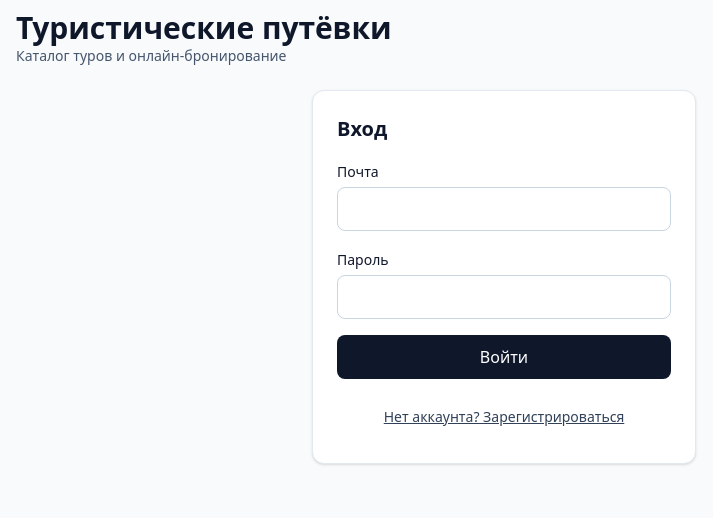
App: авторизация › неверный пароль: показывает понятную ошибку
Type "rem@example.com" into the field labelled "Почта" at (504, 209), box [337,187,671,231]
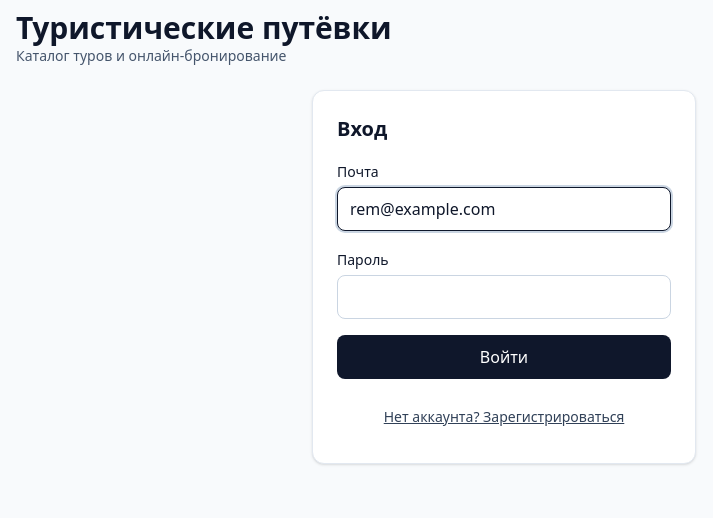
Type "wrong-password" into the password field labelled "Пароль" at (504, 297), box [337,275,671,319]
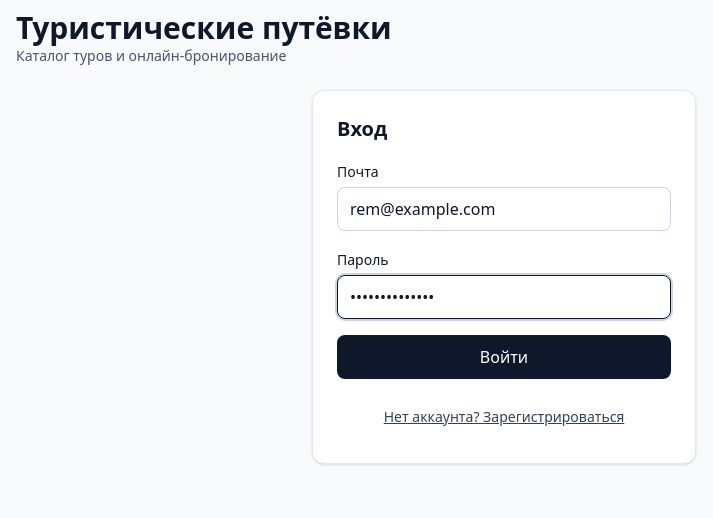
Click the button "Войти" at (504, 357), box [337,335,671,379]
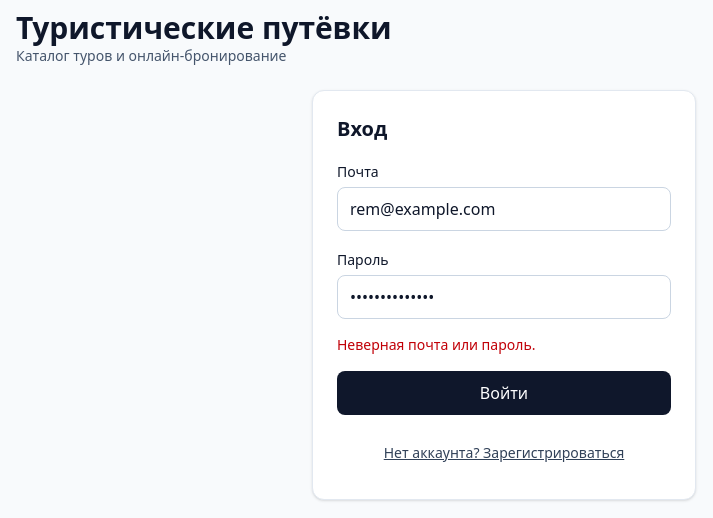
Expected: the message shows "Неверная почта или пароль", [337,335,536,354]
